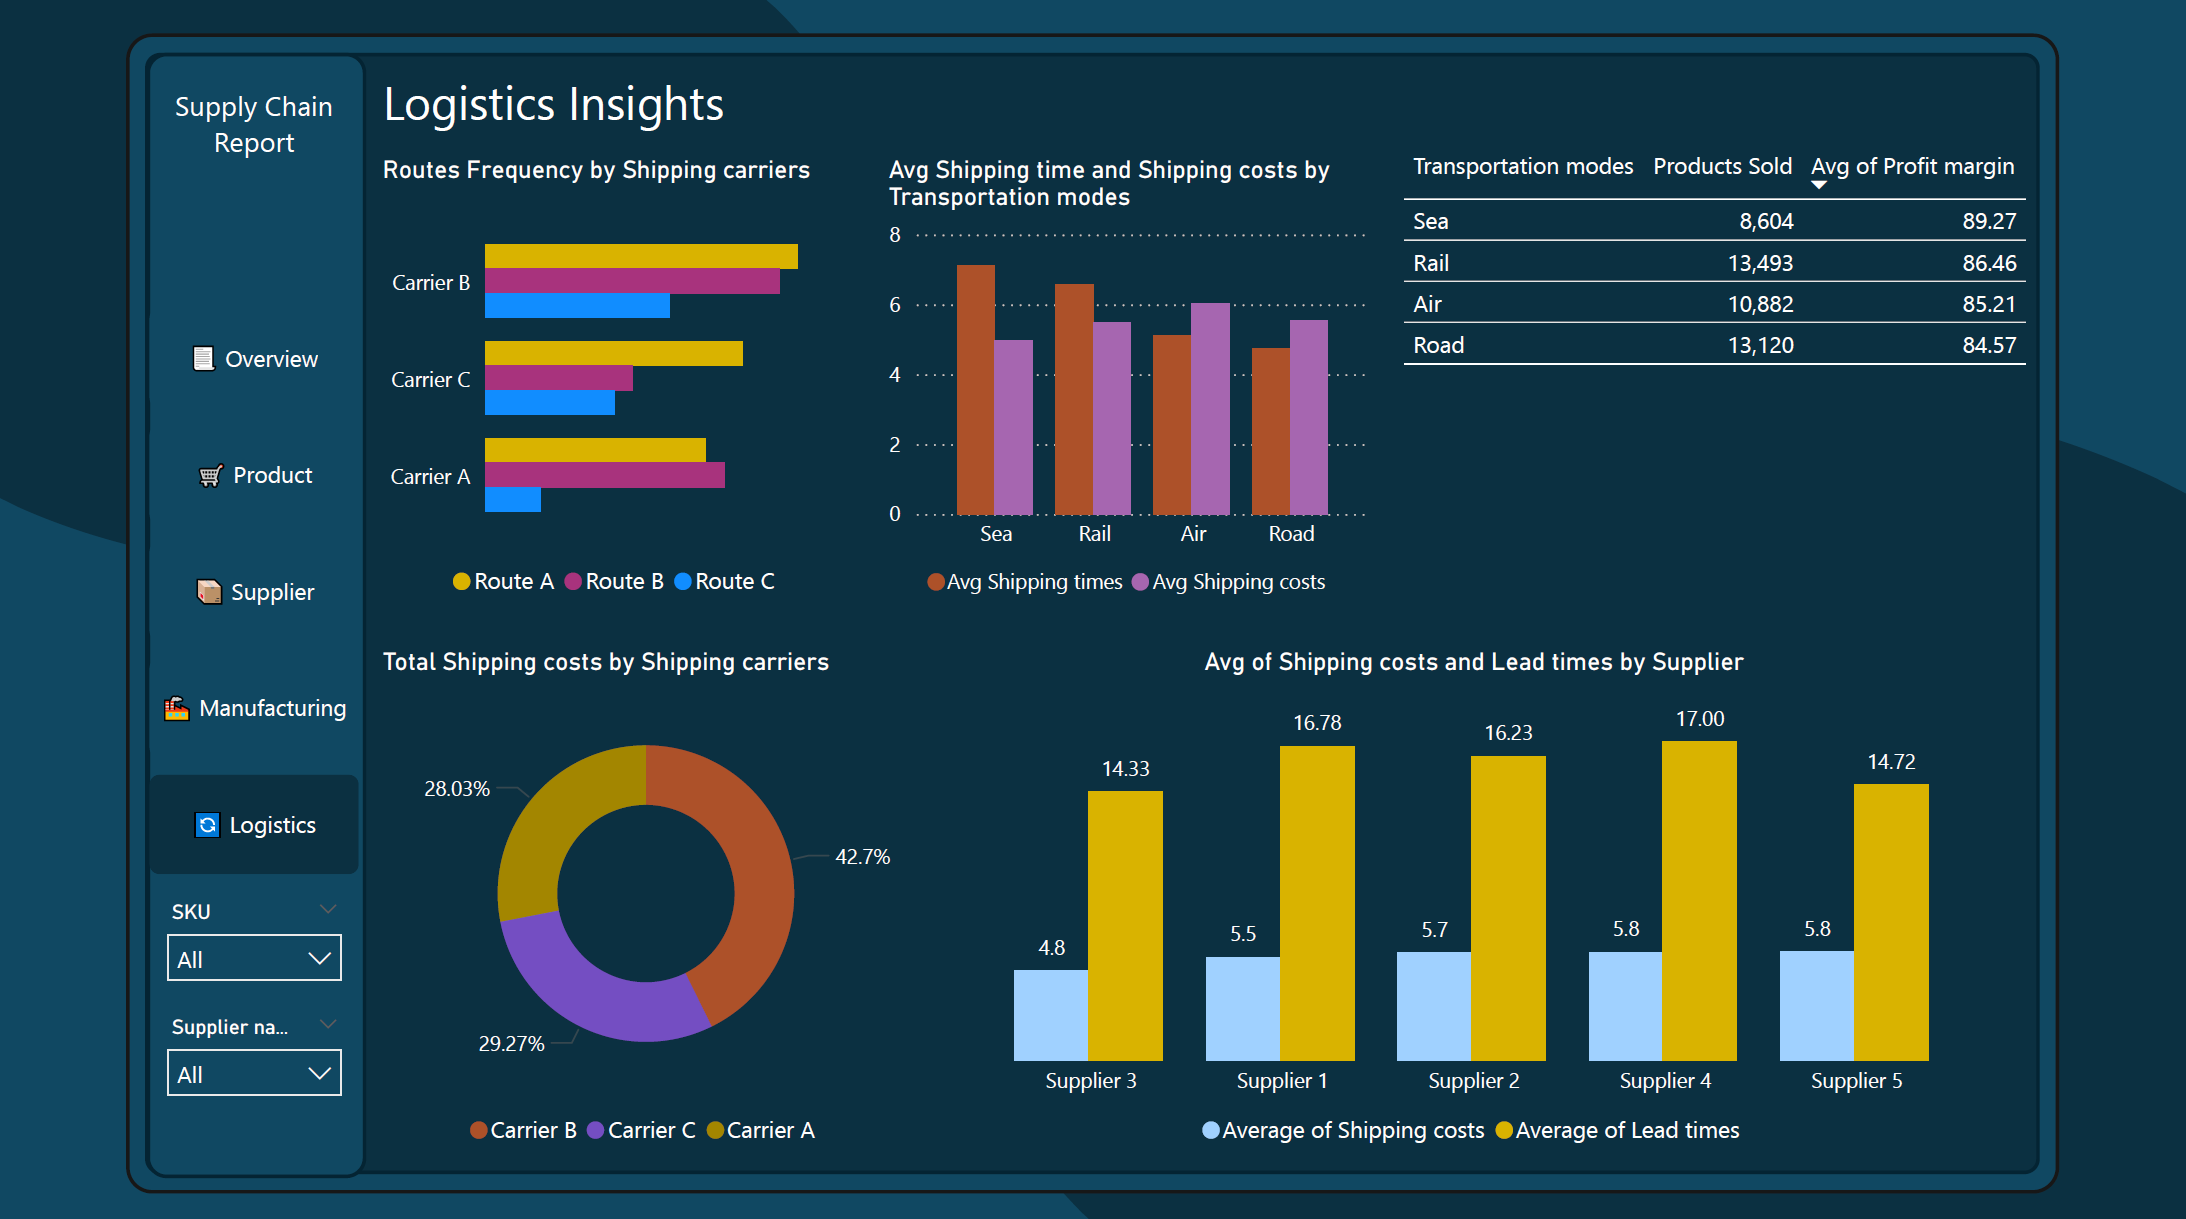

The page's visual inventory and layout, read from the dashboard file:
{"tool":"powerbi","page":{"name":"🔄  Logistics","canvas":[1280,720],"ordinal":4},"visuals":[{"type":"clusteredBarChart","title":"Routes Frequency by Shipping carriers","fields":{"Category":["supply_chain_data.Shipping carriers"],"Series":["supply_chain_data.Routes"],"Y":["CountNonNull(supply_chain_data.Routes)"]},"box":[221.5,93.4,283.1,266.6],"z":0},{"type":"pageNavigator","box":[90.3,181.2,122,330.7],"z":0,"group":"g1"},{"type":"textbox","box":[90.3,47.6,122,62.8],"z":1000,"group":"g1"},{"type":"donutChart","title":"Total Shipping costs by Shipping carriers","fields":{"Category":["supply_chain_data.Shipping carriers"],"Y":["Sum(supply_chain_data.Shipping costs)"]},"box":[221.5,380.1,316.1,300.2],"z":1000},{"type":"clusteredColumnChart","title":"Avg of Shipping costs and Lead times by Supplier ","fields":{"Category":["supply_chain_data.Supplier name"],"Y":["Avg(supply_chain_data.Shipping costs)","Avg(supply_chain_data.Lead times)"]},"box":[545.5,380.1,634.6,300.2],"z":2000},{"type":"slicer","fields":{"Values":["supply_chain_data.SKU"]},"box":[90.3,521.7,122,60.4],"z":2000,"group":"g1"},{"type":"clusteredColumnChart","title":"Avg Shipping time and Shipping costs by Transportation modes","fields":{"Category":["supply_chain_data.Transportation modes"],"Y":["Avg(supply_chain_data.Shipping times)","Avg(supply_chain_data.Shipping costs)"]},"box":[516.2,93.4,290.4,266.6],"z":3000},{"type":"slicer","fields":{"Values":["supply_chain_data.Supplier name"]},"box":[90.3,588.2,122,60.4],"z":3000,"group":"g1"},{"type":"textbox","box":[220.9,38.4,435.7,62.8],"z":4000},{"type":"tableEx","fields":{"Values":["supply_chain_data.Transportation modes","Measures (2).Total Products Sold","Avg(supply_chain_data.Profit margin)"]},"box":[815.8,81.8,373.4,259.9],"z":6000},{"type":"group","id":"g1","title":"Group 1","box":[90.3,47.6,122,601],"z":6001}]}

Visuals, with their boxes in screenshot pixels (x1, y1, x2, y2), scaled from the page's 1280x720 canvas onto the 2186x1219 screenshot:
"Routes Frequency by Shipping carriers" clusteredBarChart: x1=378 y1=158 x2=862 y2=610
pageNavigator: x1=154 y1=307 x2=363 y2=867
textbox: x1=154 y1=81 x2=363 y2=187
"Total Shipping costs by Shipping carriers" donutChart: x1=378 y1=644 x2=918 y2=1152
"Avg of Shipping costs and Lead times by Supplier " clusteredColumnChart: x1=932 y1=644 x2=2015 y2=1152
slicer - supply_chain_data.SKU: x1=154 y1=883 x2=363 y2=986
"Avg Shipping time and Shipping costs by Transportation modes" clusteredColumnChart: x1=882 y1=158 x2=1378 y2=610
slicer - supply_chain_data.Supplier name: x1=154 y1=996 x2=363 y2=1098
textbox: x1=377 y1=65 x2=1121 y2=171
tableEx - supply_chain_data.Transportation modes x Measures (2).Total Products Sold: x1=1393 y1=138 x2=2031 y2=579
"Group 1" group: x1=154 y1=81 x2=363 y2=1098
